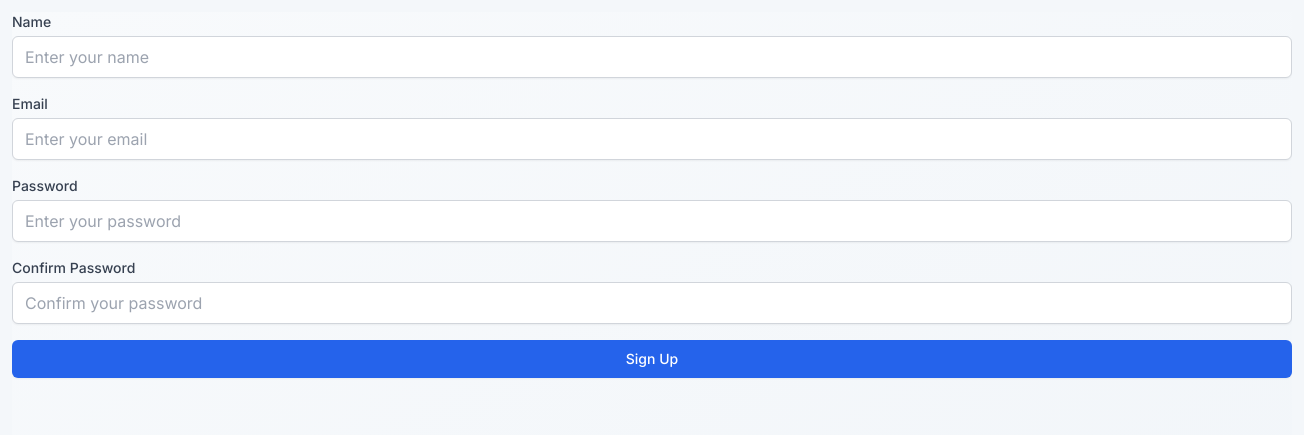
Test case: SignupForm › should show loading state during signup
Type "user@example.com" into the field with test id "email" at (652, 139), box [12, 118, 1292, 160]
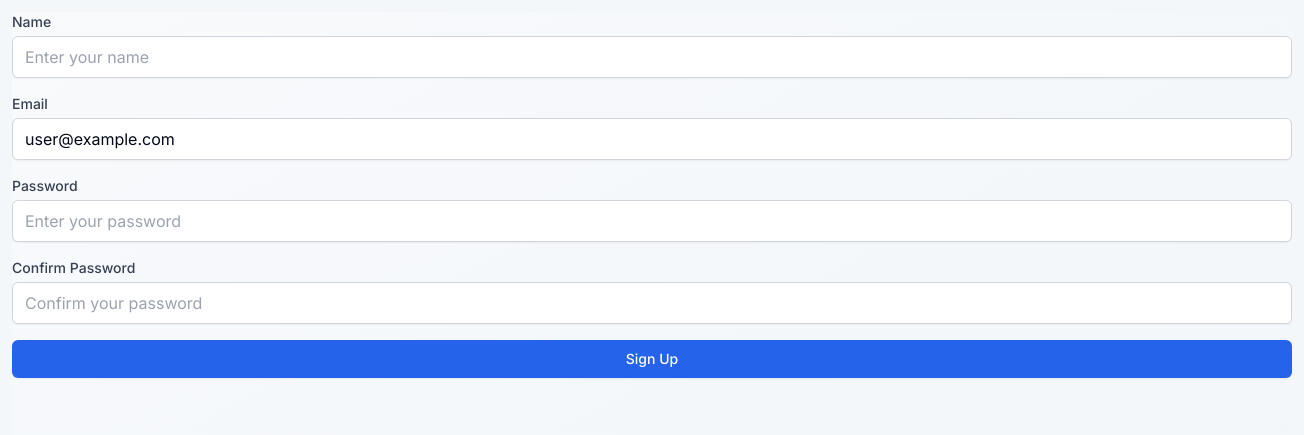
Type "Password123" into the password field with test id "password" at (652, 221), box [12, 200, 1292, 242]
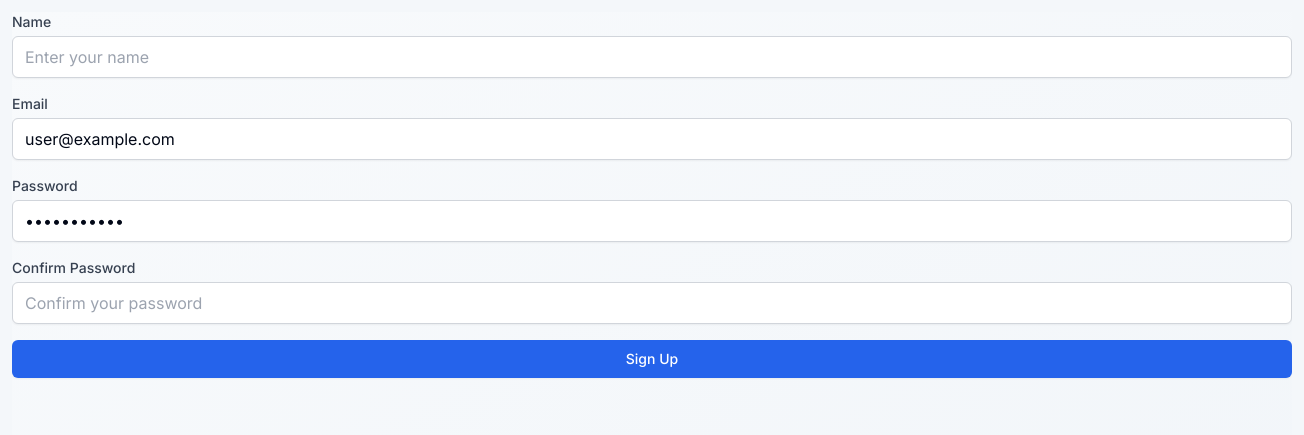
Type "Password123" into the password field with test id "confirmPassword" at (652, 303), box [12, 282, 1292, 324]
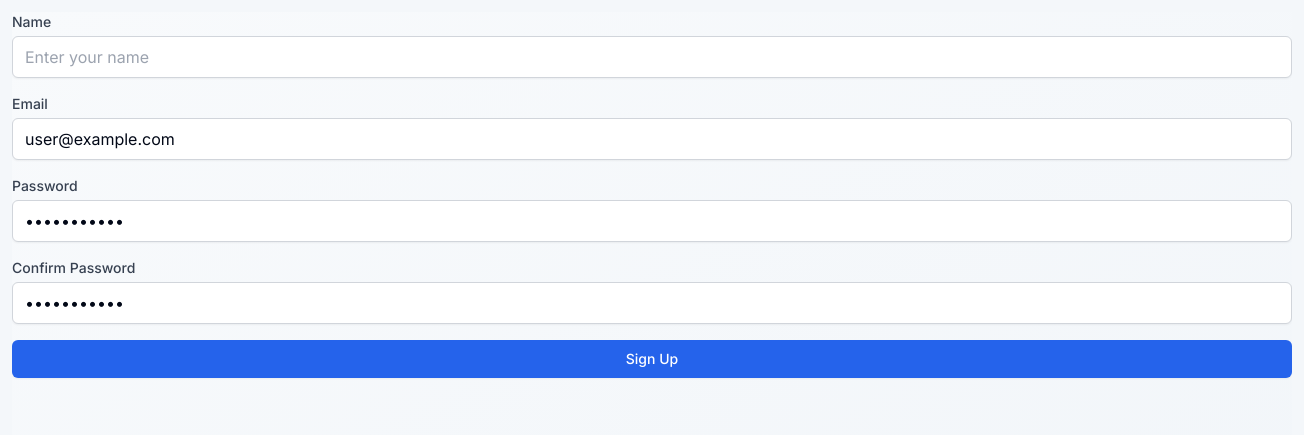
Click the button with test id "signup-button" at (652, 359), box [12, 340, 1292, 378]
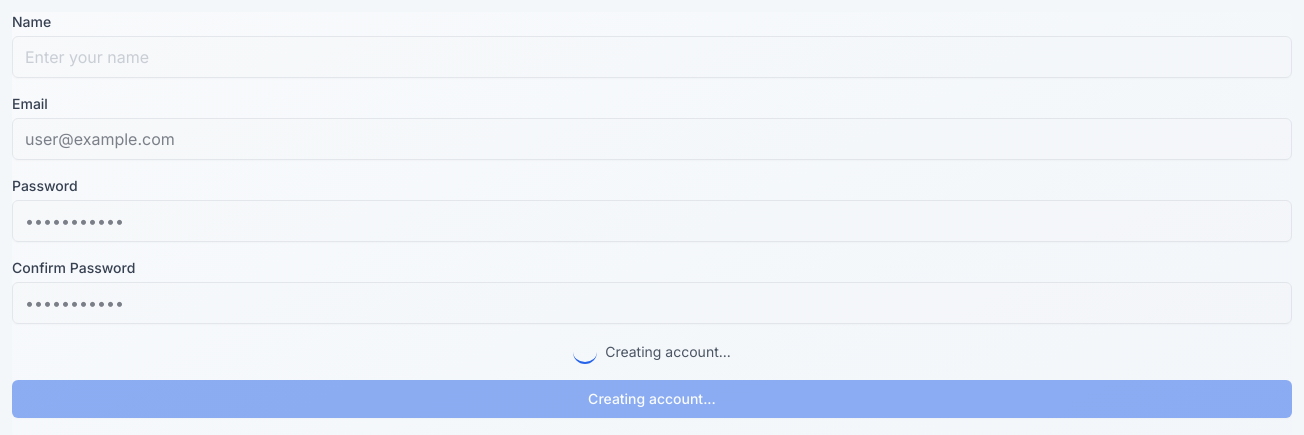
Expected: the element with test id "loading" is shown, [573, 340, 731, 364]
Expected: the button with test id "signup-button" is disabled, [12, 380, 1292, 418]
